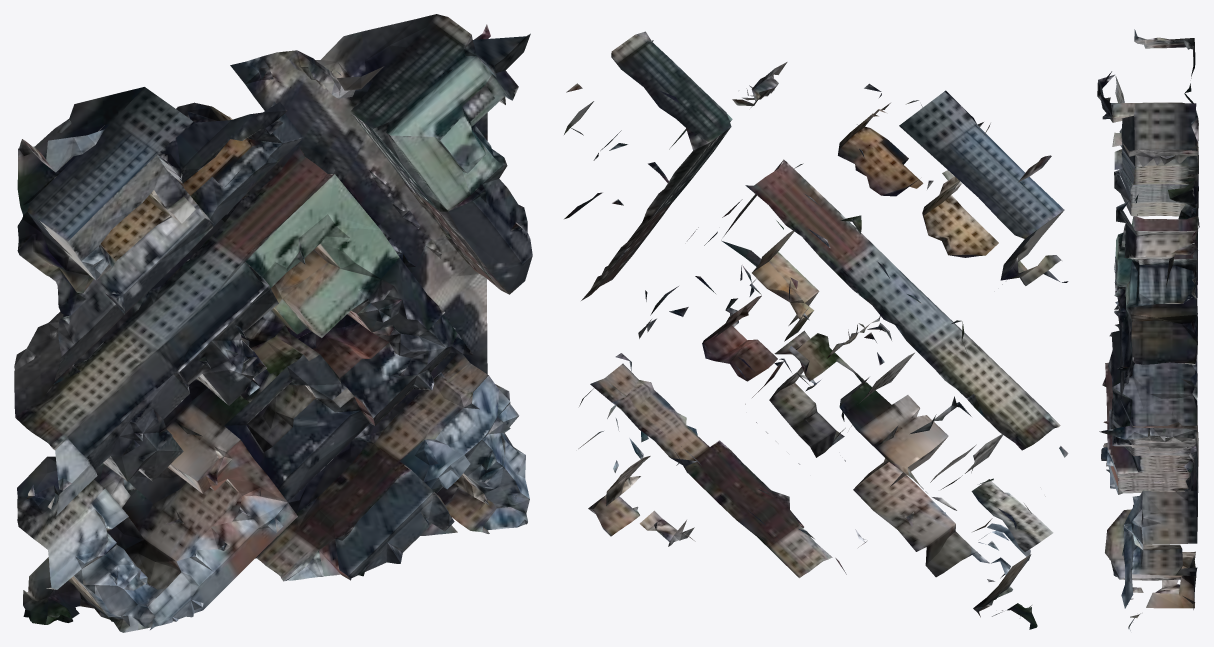
The model's file is Tile_+032_+019_L17_0003.glb.
The picture shows the model from 3 angles, left to right: view 1: azimuth 30°, elevation 25°; view 2: azimuth 150°, elevation 25°; view 3: azimuth 270°, elevation 25°; orthographic projection. The views are drawn at different scales.
Size of the model in its own units: 126 by 126 by 27.71.
1 material, 1 textured.
